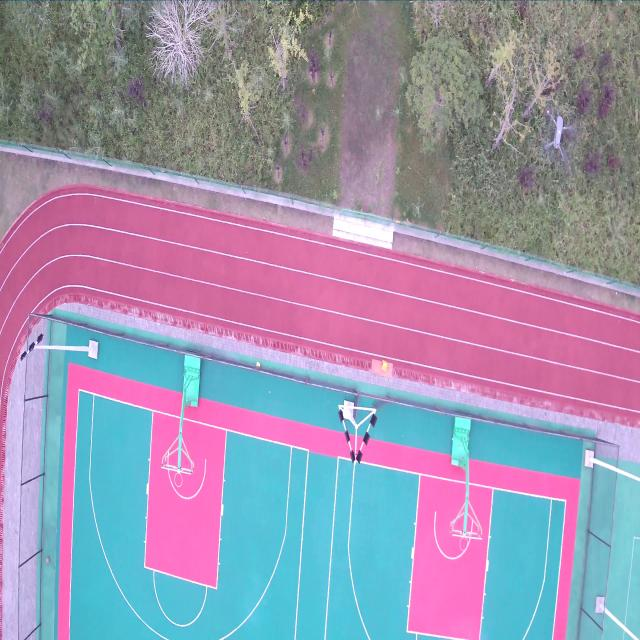UAV: (543, 109, 574, 162)
